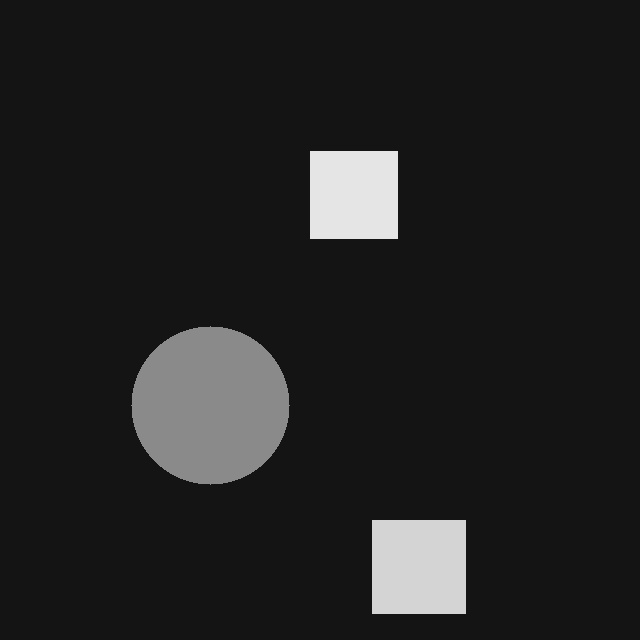circle: (131, 326, 289, 484)
square: (372, 520, 465, 613), (310, 151, 397, 238)
